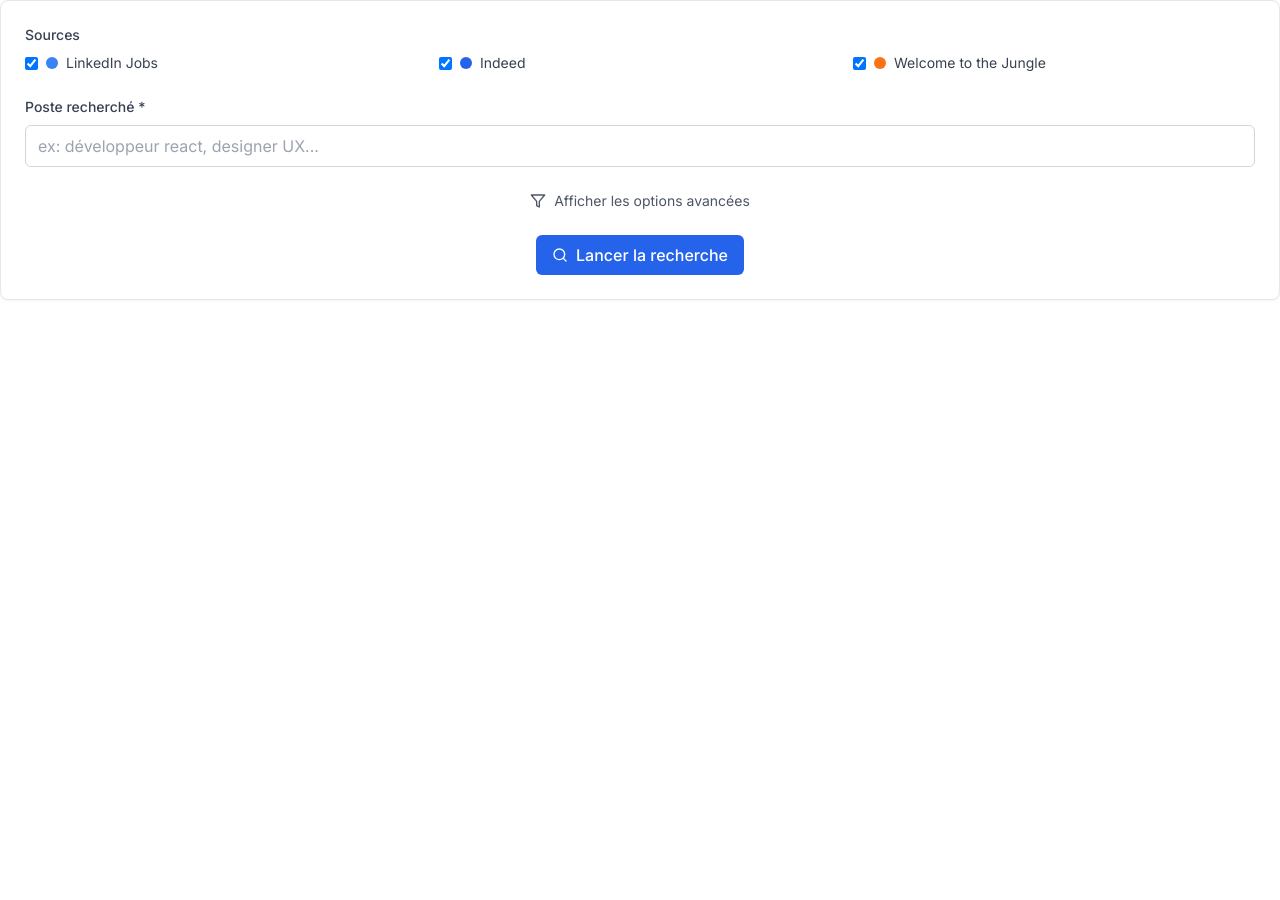
Test: JobSearchForm › toggles advanced options
This screenshot has width=1280, height=900.
expect the text "Afficher les options avancées" is shown: met, box [554,191,750,211]
What coordinates should you click on to do the following:
click the button "Afficher les options avancées"
I would click on:
 (640, 201)
Its box is [530,191,750,211].
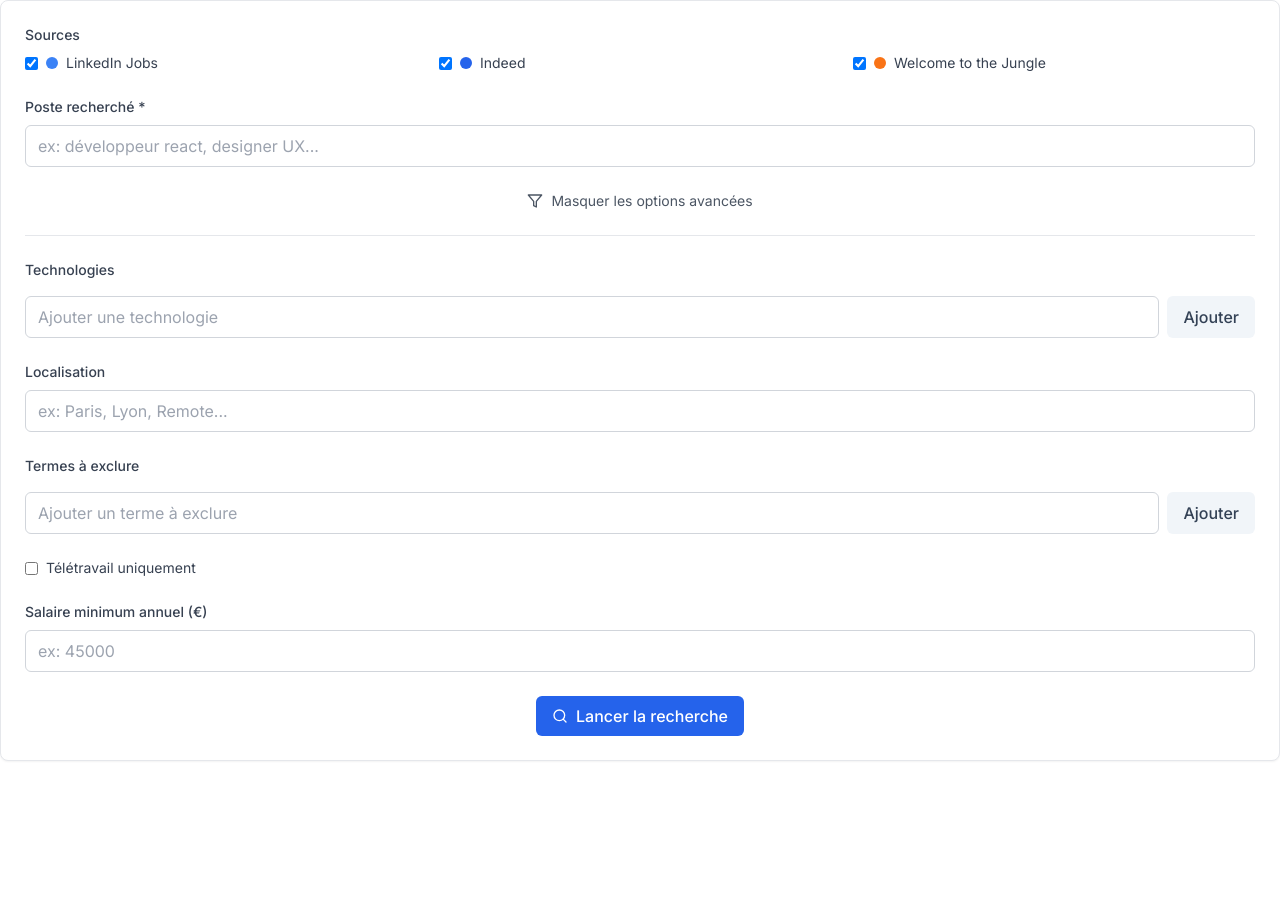
expect the text "Masquer les options avancées" is shown: met, box [551,191,753,211]
expect the text "Technologies" is shown: met, box [25,261,115,278]
expect the text "Localisation" is shown: met, box [25,363,105,380]
